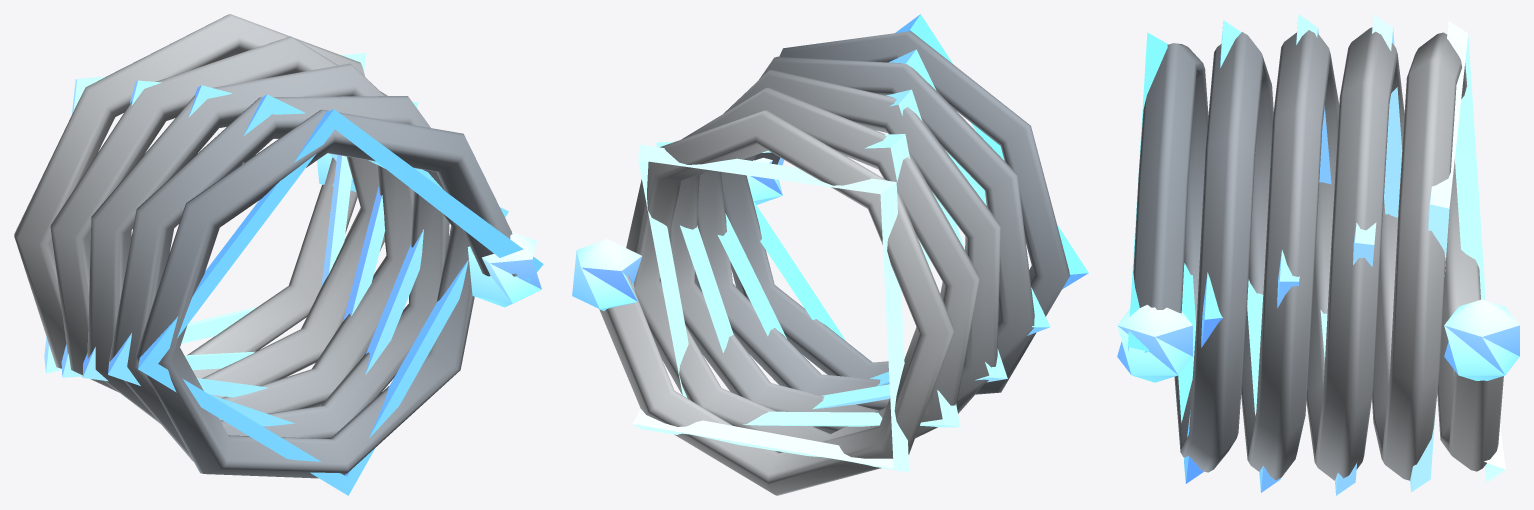
The model's file is lg_leyline_coil.glb.
The picture shows the model from 3 angles, left to right: view 1: azimuth 30°, elevation 25°; view 2: azimuth 150°, elevation 25°; view 3: azimuth 270°, elevation 25°; orthographic projection. The views are drawn at different scales.
Parts seen in each view (by area): view 1: lg_leyline_coil, lg_leyline_coil_glow; view 2: lg_leyline_coil, lg_leyline_coil_glow; view 3: lg_leyline_coil, lg_leyline_coil_glow.
Boxes of the visible parts, x1,y1,x2,y2 form: lg_leyline_coil: (14, 14, 516, 478); lg_leyline_coil_glow: (44, 53, 543, 495); lg_leyline_coil: (599, 31, 1069, 495); lg_leyline_coil_glow: (572, 14, 1088, 472); lg_leyline_coil: (1133, 27, 1503, 480); lg_leyline_coil_glow: (1117, 14, 1519, 495).
Bounding box in the file's own units: 0.4743 × 0.4698 × 0.3941.
